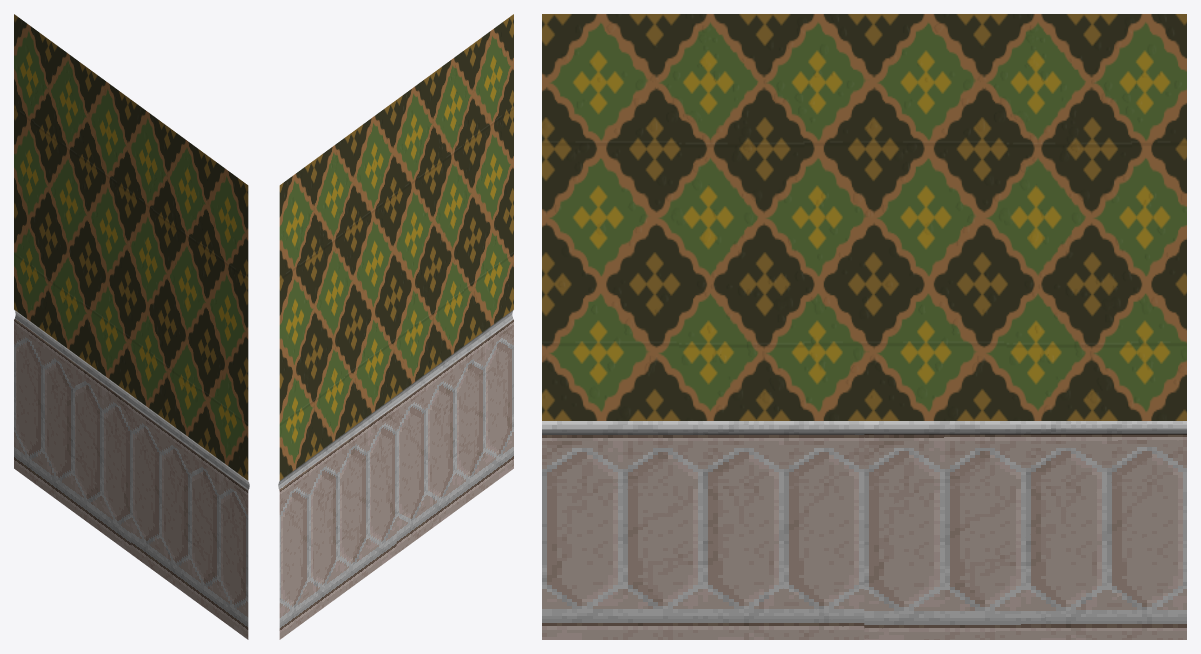
File: ParedPasillo.fbx
The picture shows the model from 3 angles, left to right: view 1: azimuth 30°, elevation 25°; view 2: azimuth 150°, elevation 25°; view 3: azimuth 270°, elevation 25°; orthographic projection. The views are drawn at different scales.
Parts seen in each view (by area): view 1: ParedPasillo; view 2: ParedPasillo; view 3: ParedPasillo.
Part boxes in pixels (box(x1,y1,x2,y2)): ParedPasillo: box(14, 14, 249, 639); ParedPasillo: box(278, 14, 513, 639); ParedPasillo: box(542, 14, 1186, 639).
Size of the model in its own units: 1.11 by 300 by 280.
